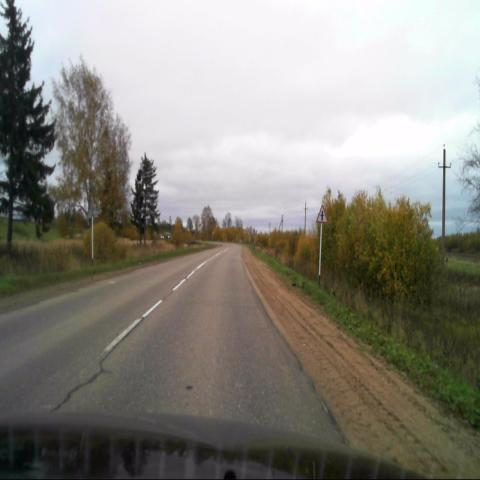2_3: (316, 204, 327, 223)
